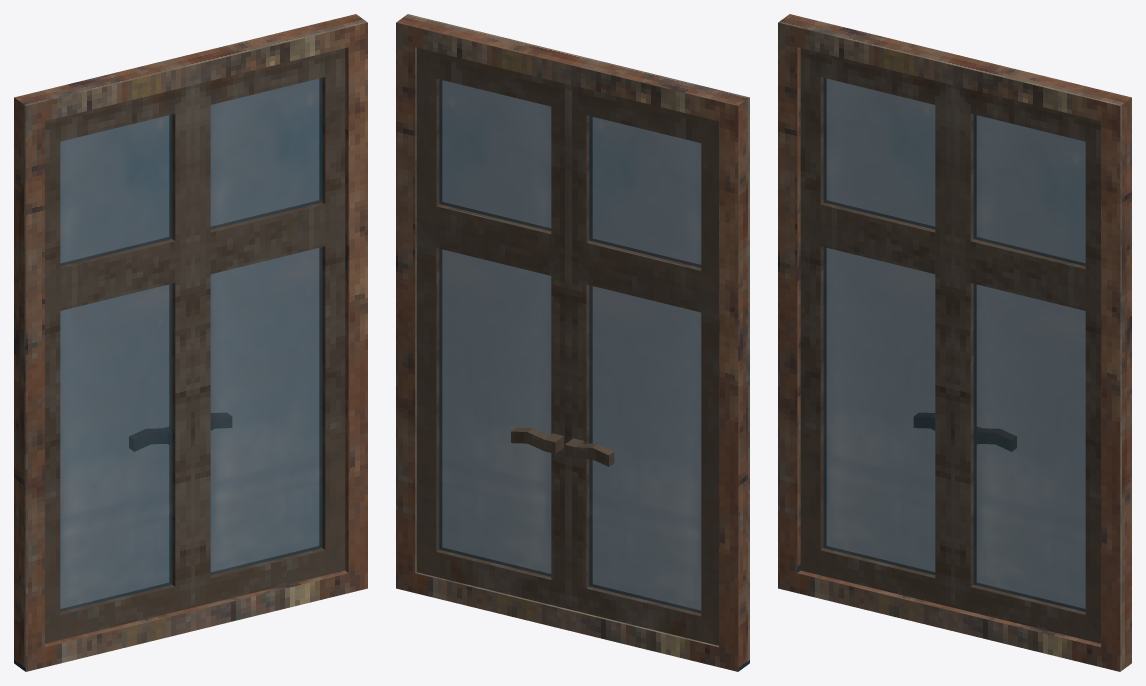
File: Window.gltf
3 renders of one model, left to right at view 1: azimuth 30°, elevation 25°; view 2: azimuth 150°, elevation 25°; view 3: azimuth 330°, elevation 25°, orthographic.
Visible parts, largest first — view 1: WindowL-convcol, WindowR-convcol, WindowBase; view 2: WindowL-convcol, WindowR-convcol, WindowBase; view 3: WindowR-convcol, WindowL-convcol, WindowBase.
Part boxes in pixels (x1,y1,x2,y2): WindowL-convcol: [193, 48, 345, 607]; WindowR-convcol: [45, 85, 193, 643]; WindowBase: [14, 14, 367, 671]; WindowL-convcol: [416, 47, 568, 608]; WindowR-convcol: [564, 85, 718, 645]; WindowBase: [396, 14, 749, 671]; WindowR-convcol: [800, 48, 952, 607]; WindowL-convcol: [952, 85, 1100, 643]; WindowBase: [778, 14, 1131, 671].
Bounding box in the file's own units: 1.08 × 1.71 × 0.1033.
2 materials, 2 textured.
